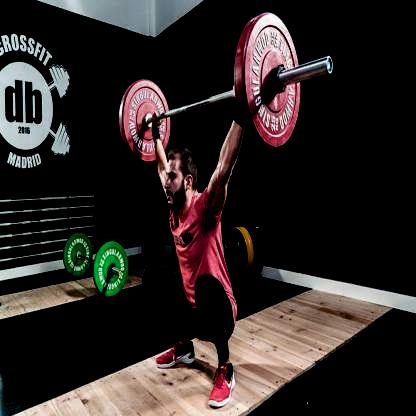barbell: (243, 12, 302, 151), (122, 78, 171, 164)
